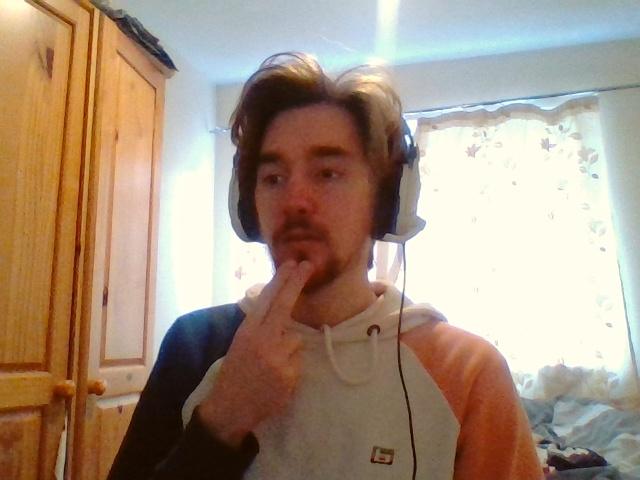afternoon: (234, 258, 315, 401)
